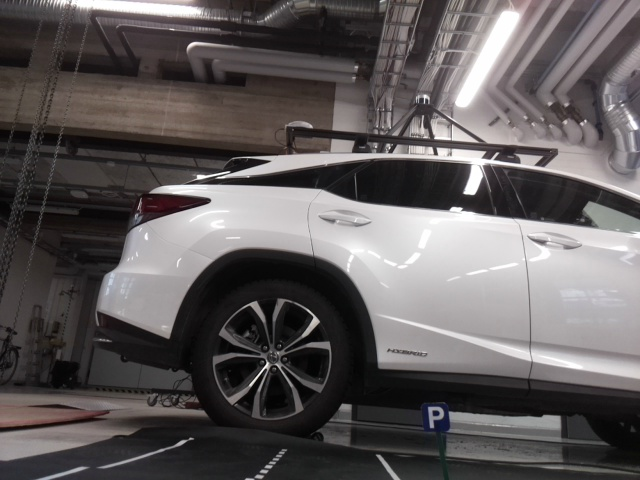Parking: (422, 403, 450, 430)
